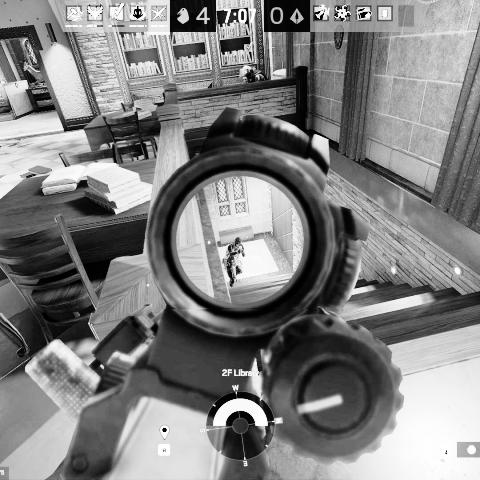Character: (222, 236, 248, 288), (239, 66, 268, 82)
Friend_label: (232, 41, 264, 65)
Head: (242, 66, 253, 80), (233, 237, 241, 247)
